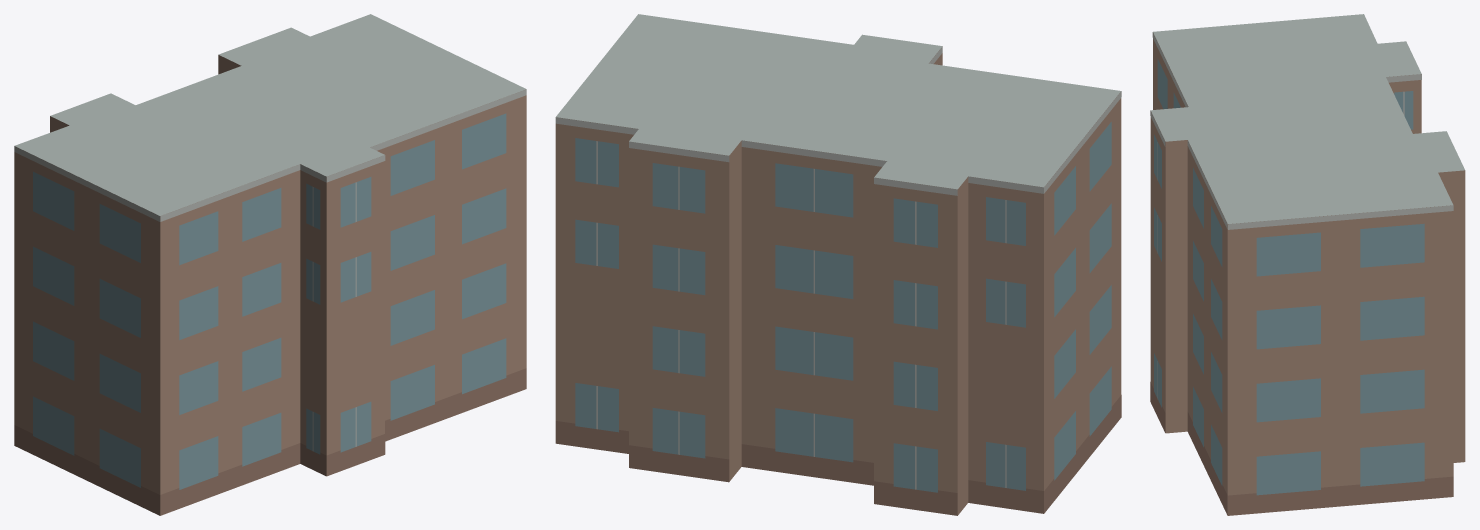
The model's file is survey-upis-32605533.glb.
The picture shows the model from 3 angles, left to right: view 1: azimuth 30°, elevation 25°; view 2: azimuth 150°, elevation 25°; view 3: azimuth 270°, elevation 25°; orthographic projection. The views are drawn at different scales.
Parts seen in each view (by area): view 1: survey-upis-32605533.tmp; view 2: survey-upis-32605533.tmp; view 3: survey-upis-32605533.tmp.
Boxes of the visible parts, <box> form: survey-upis-32605533.tmp: <box>14,14,526,515</box>; survey-upis-32605533.tmp: <box>555,14,1121,515</box>; survey-upis-32605533.tmp: <box>1150,14,1465,515</box>.
Size of the model in its own units: 18.85 by 12.2 by 11.94.
